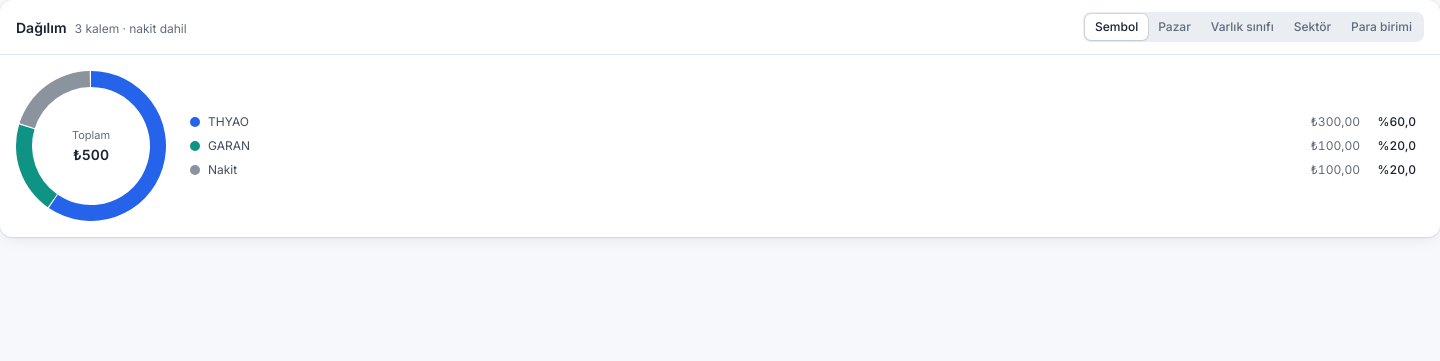
Test case: Allocation › puts the target and drift on their own line so the class name keeps its width
The width and height of the screenshot is (1440, 361).
Click the radio button labelled "Varlık sınıfı": point(1242, 27) 1201,14 -> 1284,40
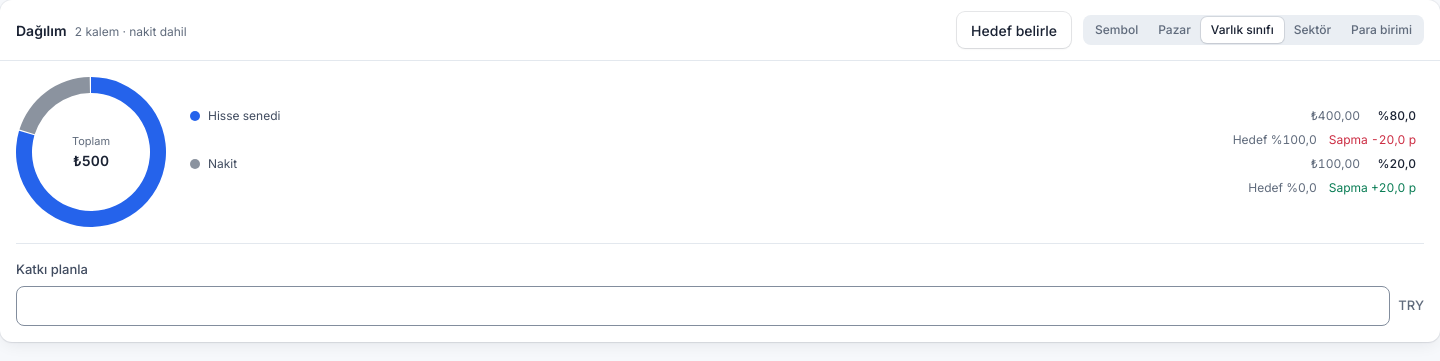
Expected: the text titled "Hedef" is shown, 1233,132 -> 1317,148
